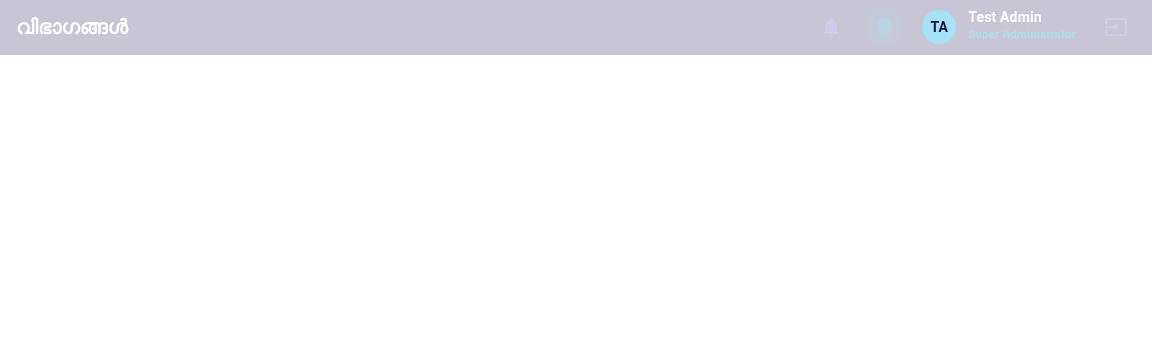
Test: Header Component › renders translated text in Malayalam when language is ml
Click the element with test id "user-detail-trigger": (999, 27) [918,5,1080,49]
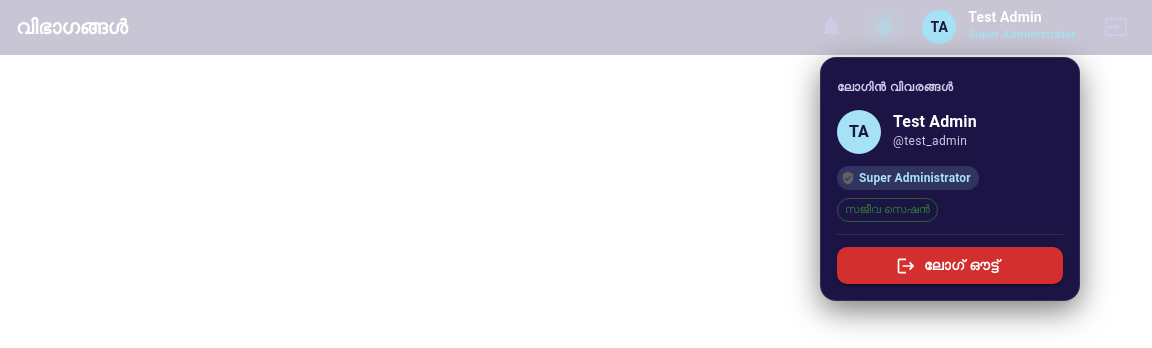
Result: the text "ലോഗിൻ വിവരങ്ങൾ" is shown at [837,80,953,94]
